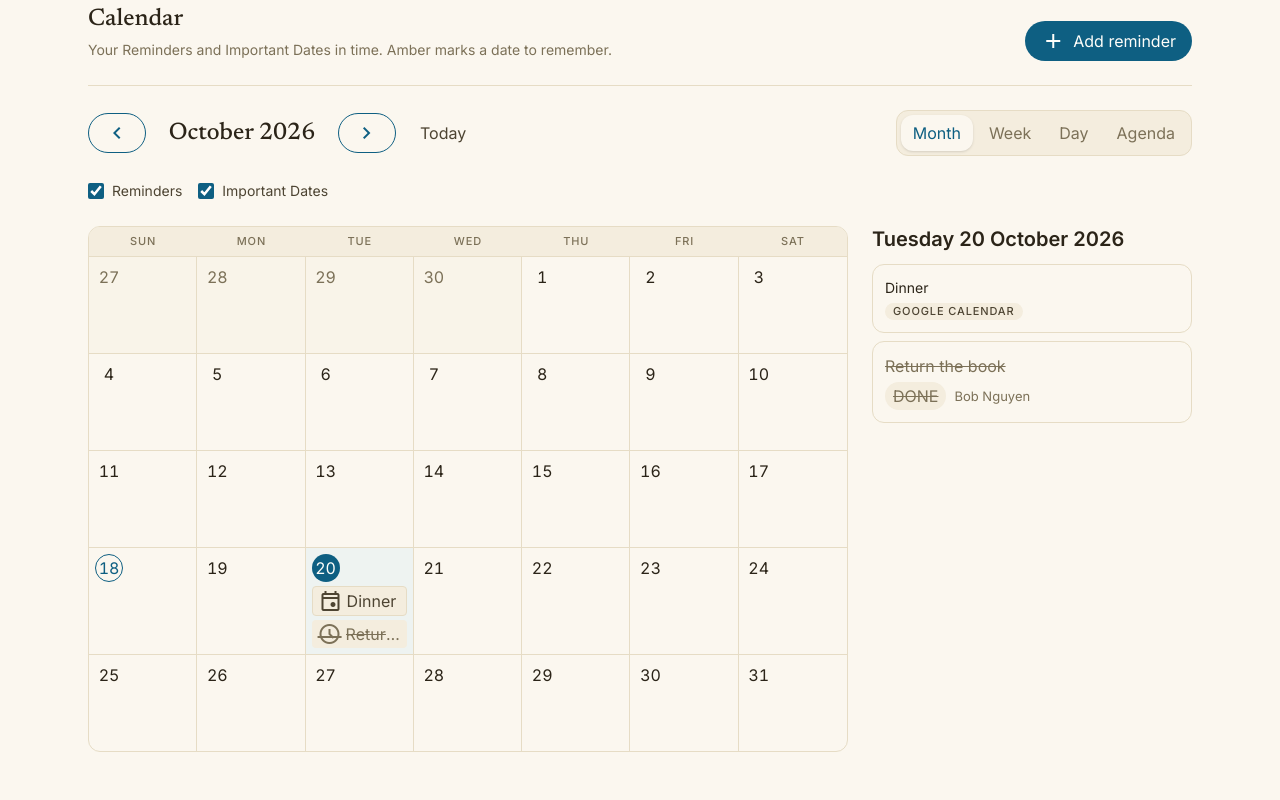
Test: Calendar item details › says when a Reminder is done, and gives a Google event its times
(page scrolled)
Expected: the cell named "Tuesday 20 October 2026" is shown, [306,548,414,654]
Hover over the button "Return the book": (359,634) [312,620,407,648]
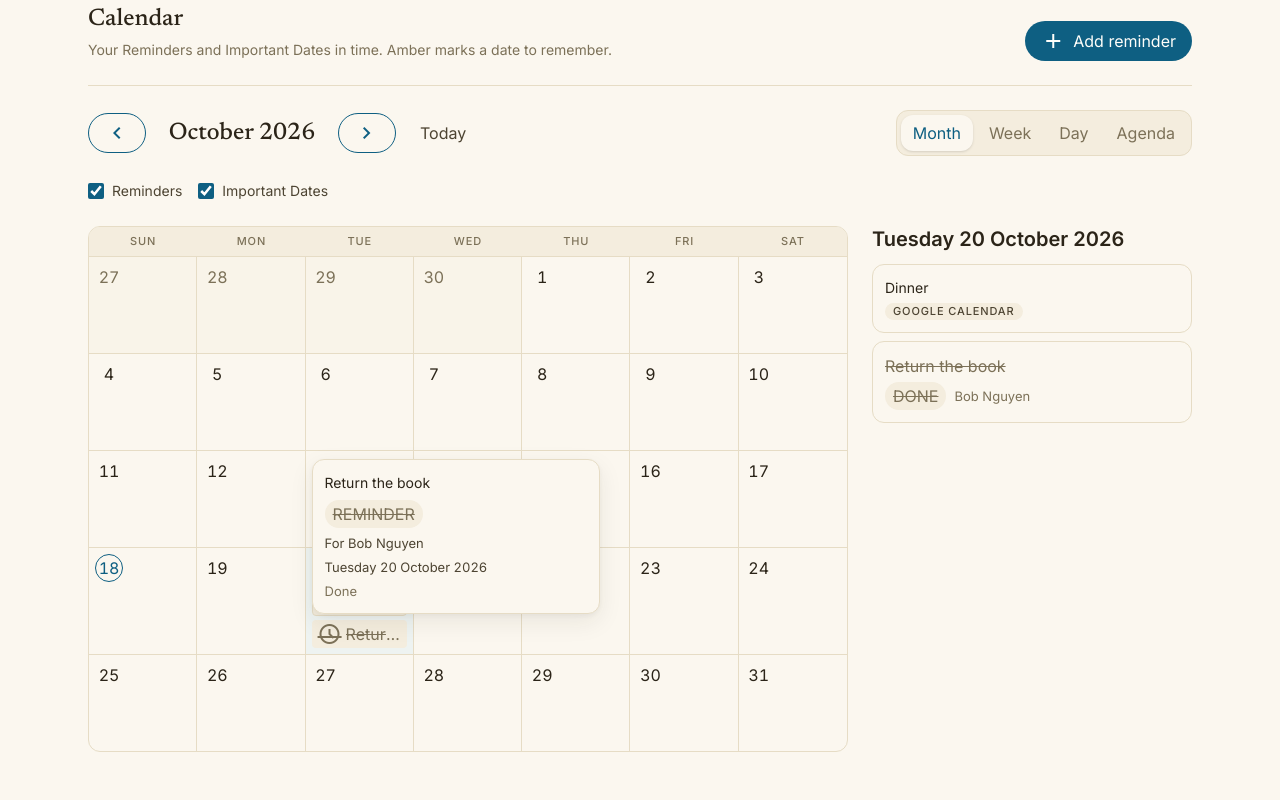
Result: the text "Done" below "For Bob Nguyen" is shown at [325,584,357,600]
Hover over the button "Dinner": (359,601) [312,586,407,616]
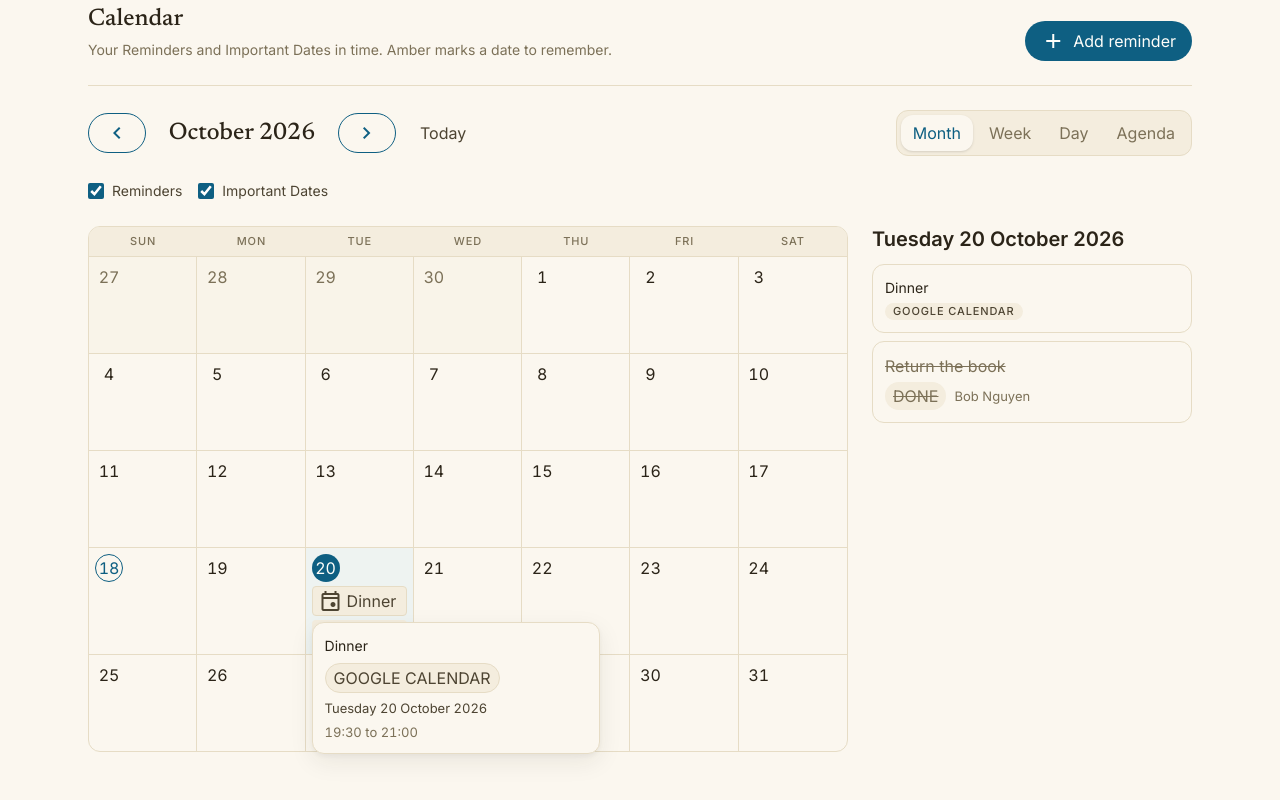
Result: the 2nd text "Google Calendar" is shown at [325,663,500,693]
Result: the text "19:30 to 21:00" is shown at [325,724,418,740]
